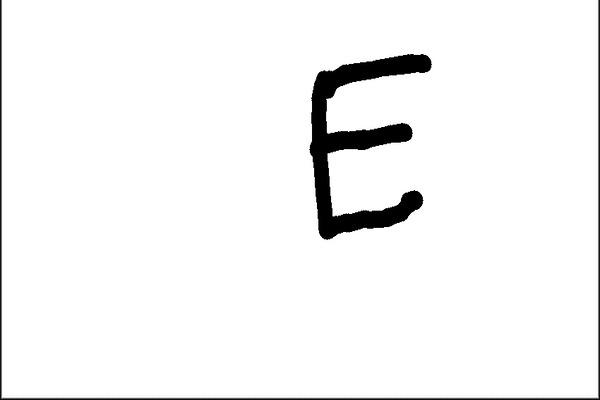E: (302, 45, 438, 240)
